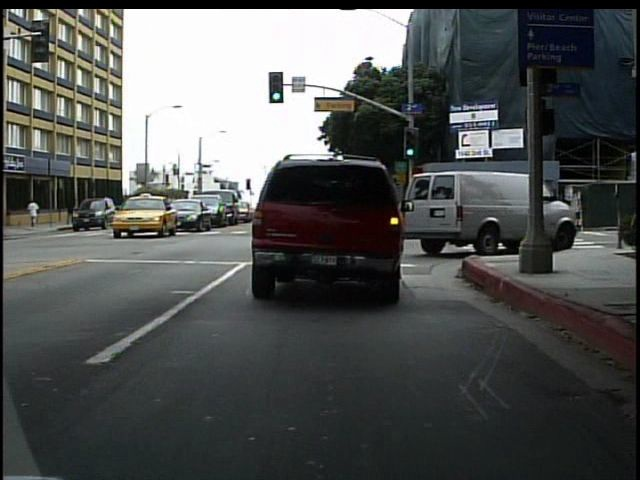person: (491, 174, 513, 236), (27, 196, 46, 230)
